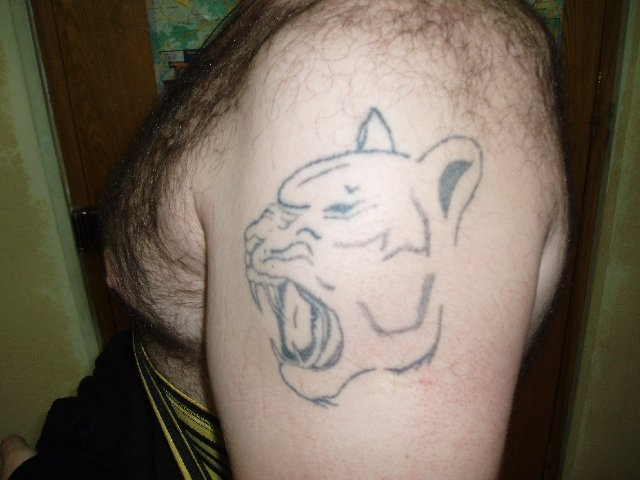tatu5_tigr: (240, 106, 483, 411)
